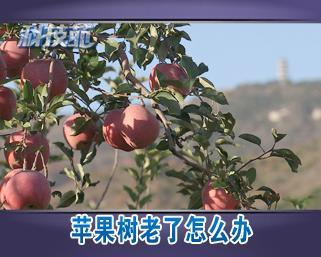apple: (106, 102, 160, 150)
